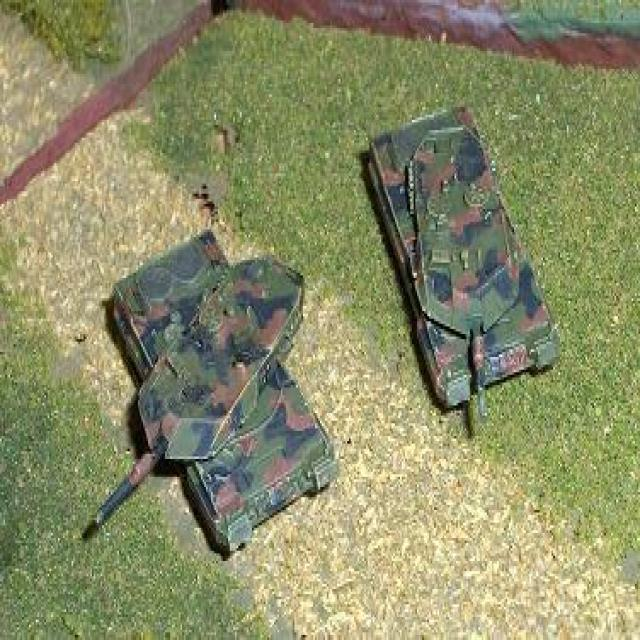MIL_MBT: (83, 218, 336, 578), (361, 87, 557, 428)
